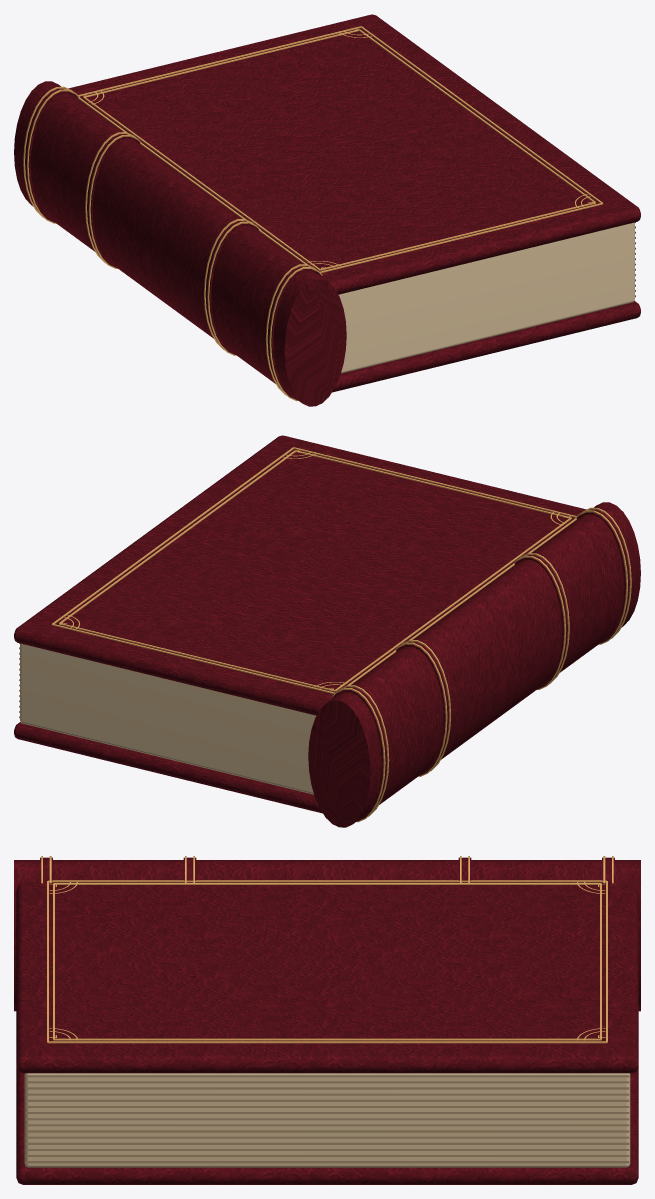
Rendered from closed.glb.
3 renders of one model, top to bottom at view 1: azimuth 30°, elevation 25°; view 2: azimuth 150°, elevation 25°; view 3: azimuth 270°, elevation 25°, orthographic. The views are drawn at different scales.
Visible parts, largest first — view 1: Oxblood leather, Cut edges, Antique gold; view 2: Oxblood leather, Cut edges, Antique gold; view 3: Oxblood leather, Cut edges, Antique gold.
Boxes of the visible parts, bbox=[...] form: Oxblood leather: bbox=[14, 14, 640, 406]; Cut edges: bbox=[338, 222, 635, 373]; Antique gold: bbox=[23, 26, 603, 401]; Oxblood leather: bbox=[14, 435, 640, 827]; Cut edges: bbox=[19, 643, 316, 794]; Antique gold: bbox=[51, 447, 631, 822]; Oxblood leather: bbox=[14, 857, 640, 1184]; Cut edges: bbox=[24, 1073, 630, 1167]; Antique gold: bbox=[41, 856, 613, 1043].
Size of the model in its own units: 3.21 by 1.13 by 4.15.
3 materials, 1 textured.
